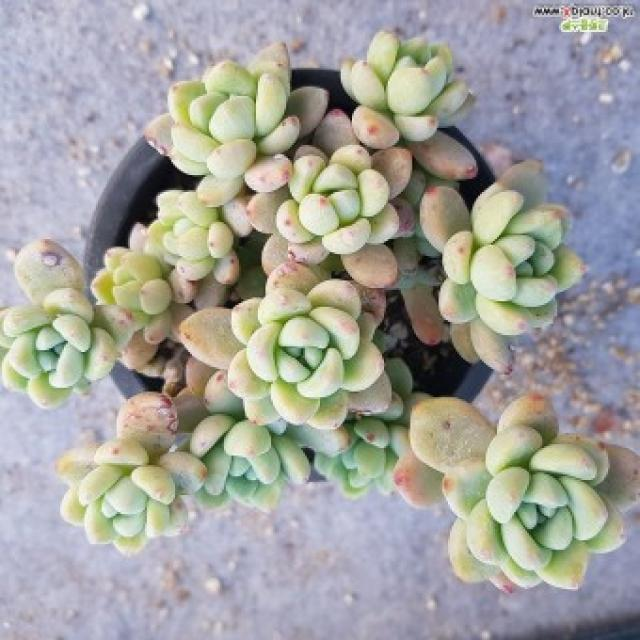LumiRose: (411, 394, 640, 591), (180, 261, 391, 429), (420, 161, 584, 374), (248, 109, 416, 289), (145, 43, 325, 206), (56, 393, 206, 555), (0, 241, 136, 409), (189, 371, 349, 511), (341, 31, 478, 178), (144, 190, 251, 285)
